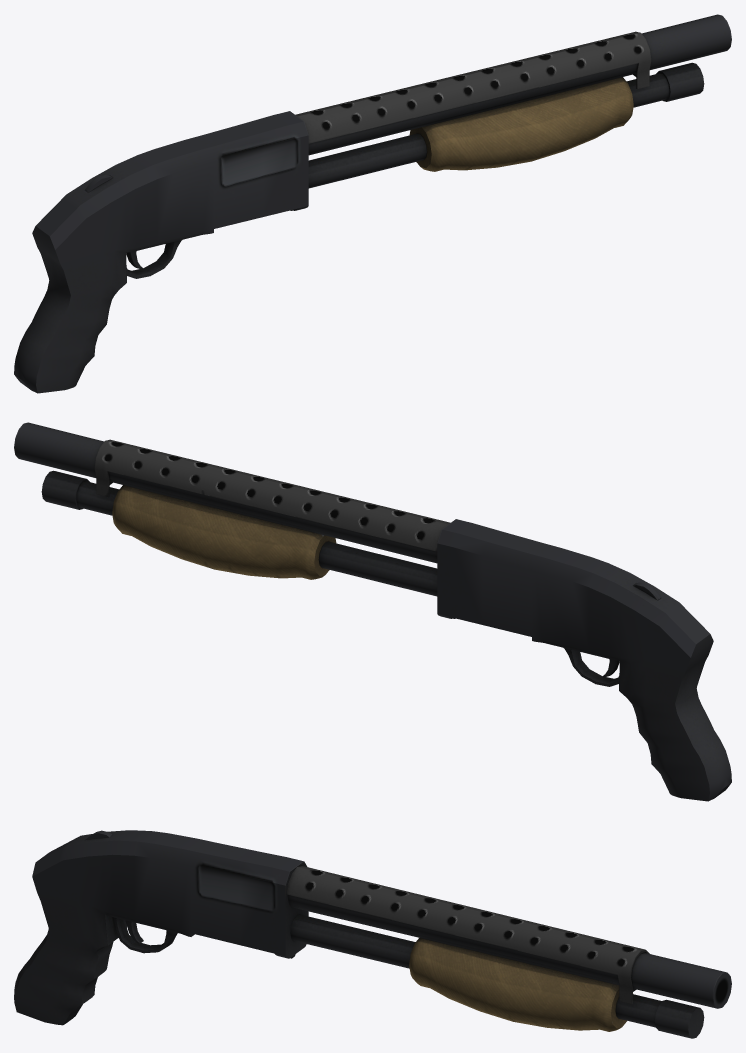
File: shotgun_000037.obj
The picture shows the model from 3 angles, top to bottom: view 1: azimuth 30°, elevation 25°; view 2: azimuth 150°, elevation 25°; view 3: azimuth 330°, elevation 25°; orthographic projection.
Visible parts, largest first — view 1: mesh_Cube.001; view 2: mesh_Cube.001; view 3: mesh_Cube.001.
Boxes of the visible parts, x1,y1,x2,y2 form: mesh_Cube.001: (14, 14, 731, 393); mesh_Cube.001: (14, 422, 731, 801); mesh_Cube.001: (14, 830, 731, 1038).
Size of the model in its own units: 1.89 by 0.539 by 0.1708.
1 material, 1 textured.
